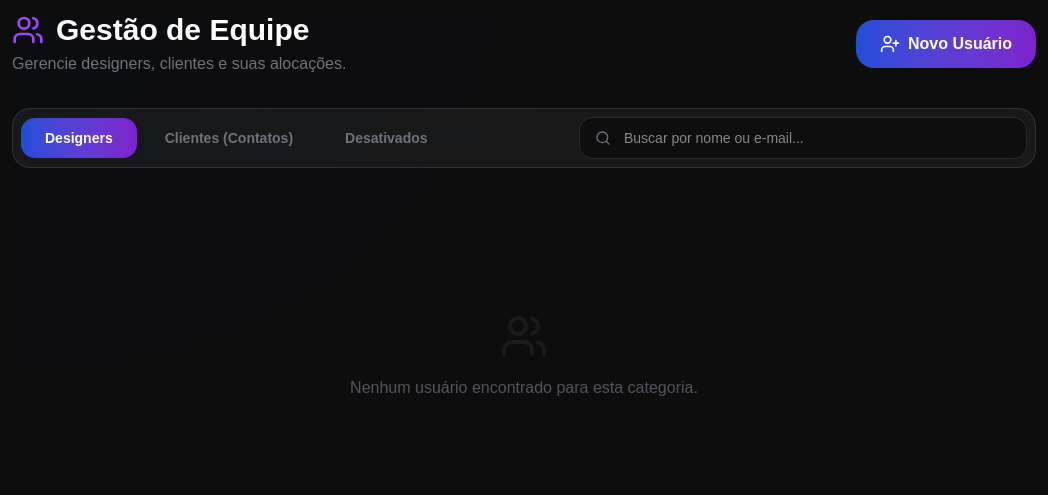
Test case: TeamPage › usuário inativo › o crachá Inativo não é botão — quem age é o Reativar ao lado
Click the button "Desativados": (386, 138) left=321, top=118, right=452, bottom=158
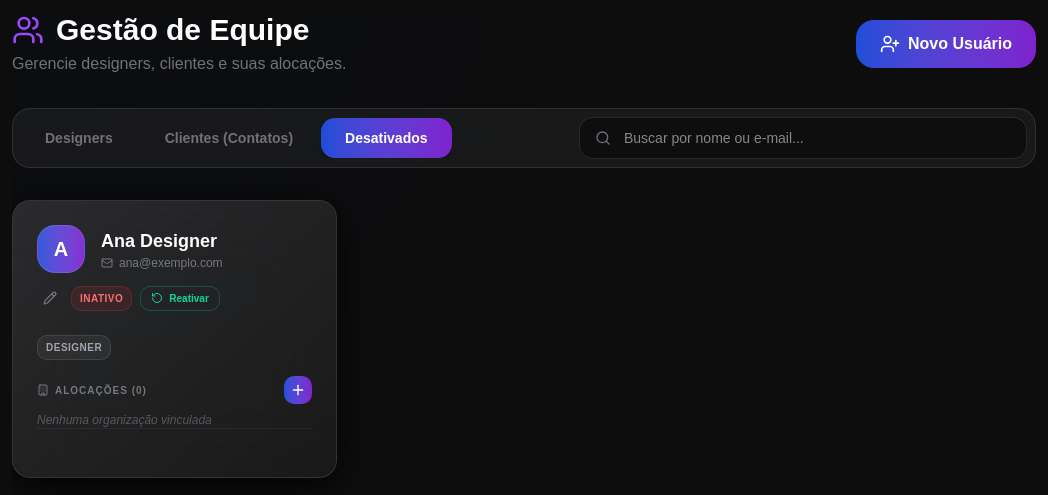
Now the button "Reativar" is shown, box left=140, top=286, right=220, bottom=310
